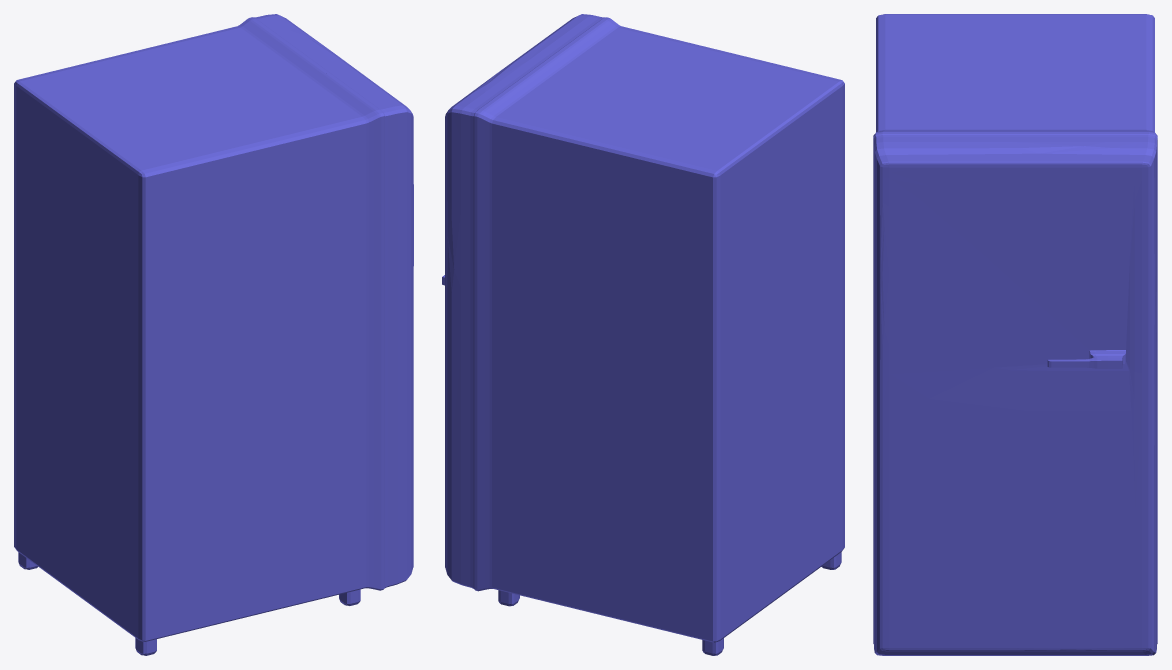
The model's file is OldFridge.fbx.
3 renders of one model, left to right at view 1: azimuth 30°, elevation 25°; view 2: azimuth 150°, elevation 25°; view 3: azimuth 270°, elevation 25°, orthographic. The views are drawn at different scales.
Visible parts, largest first — view 1: Fridge; view 2: Fridge; view 3: Fridge.
Part boxes in pixels (x1,y1,x2,y2): Fridge: (14,14,413,655); Fridge: (442,14,844,655); Fridge: (873,14,1157,655).
Bounding box in the file's own units: 6.17 × 9.97 × 4.91.
